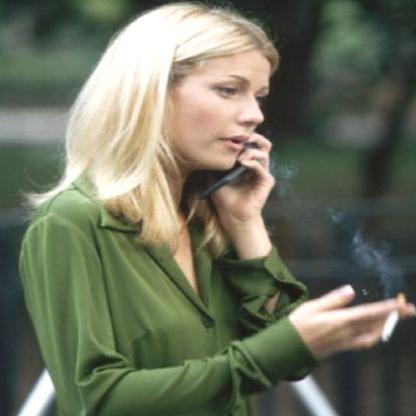cigarette: (378, 292, 406, 344)
person: (13, 3, 326, 415)
smoke: (348, 237, 406, 286)
